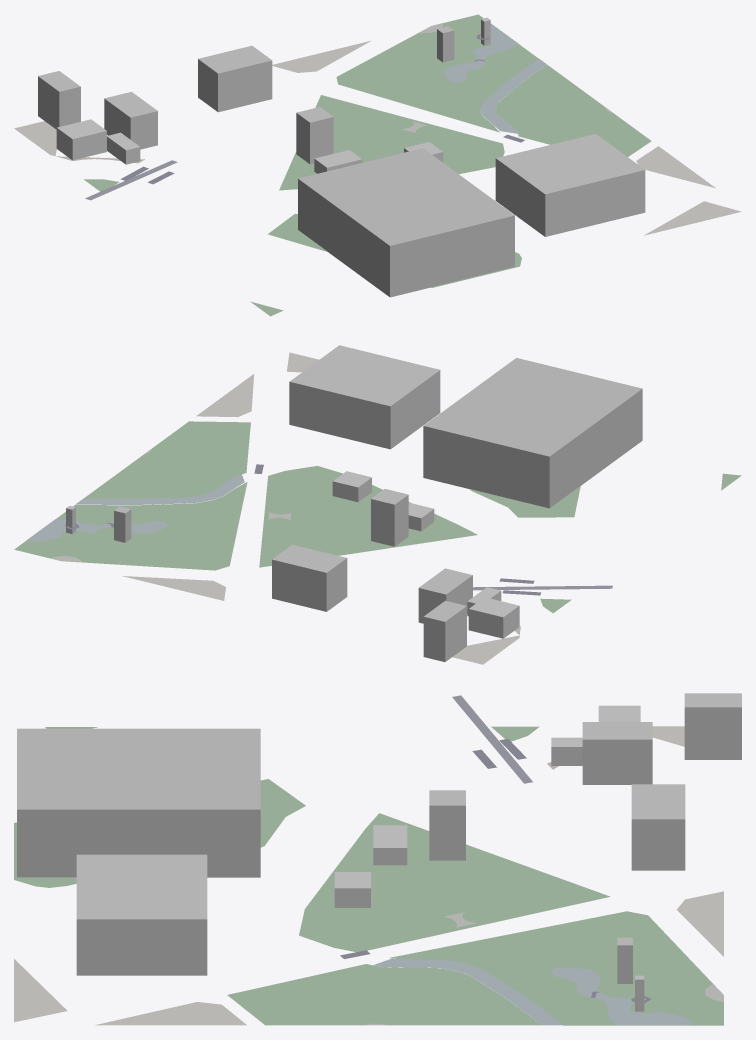
File: 107_107_mid.glb
3 views of the same model, one above another, from view 1: azimuth 30°, elevation 25°; view 2: azimuth 150°, elevation 25°; view 3: azimuth 270°, elevation 25° (orthographic). The views are drawn at different scales.
Size of the model in its own units: 531 by 53.19 by 513.
